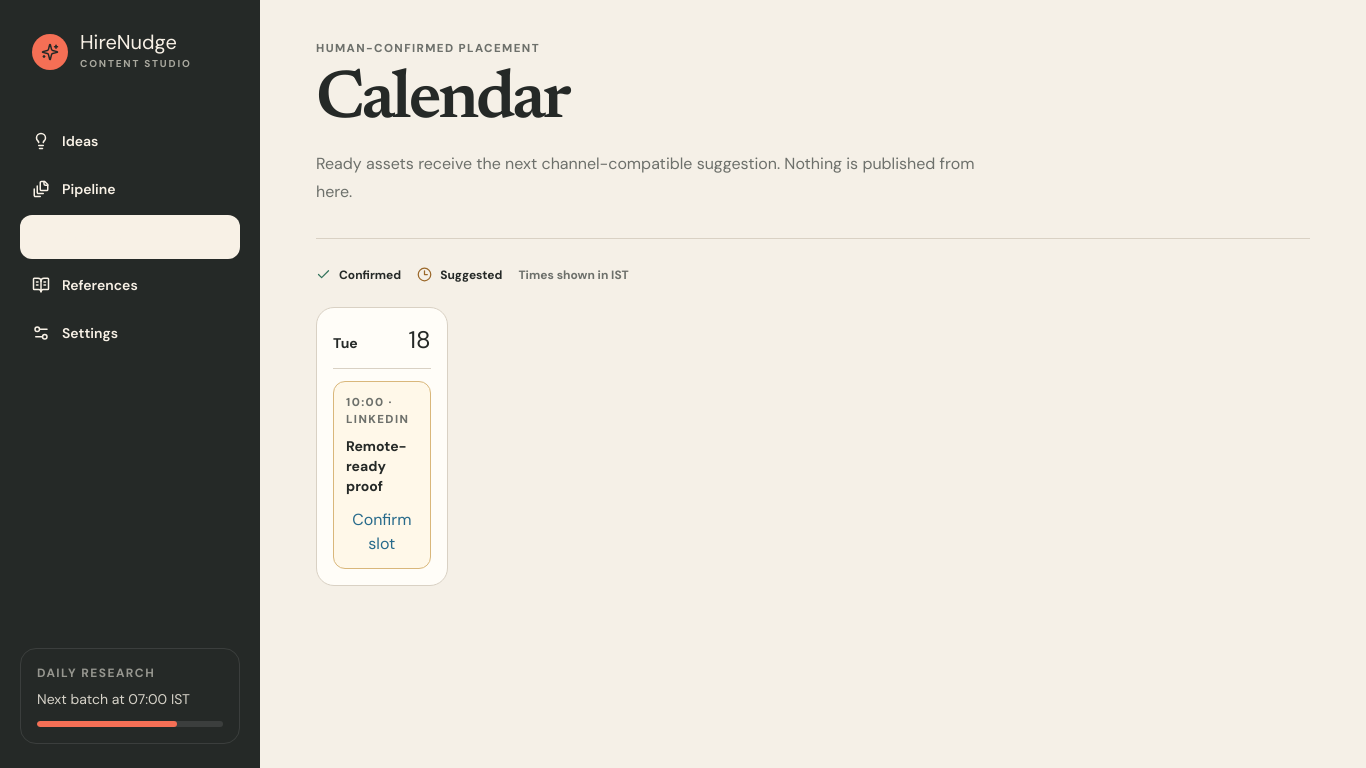
production UI clients › confirms a suggested calendar slot through the schedule API
Click the button "Confirm slot" at [382, 532], box [346,508,418,556]
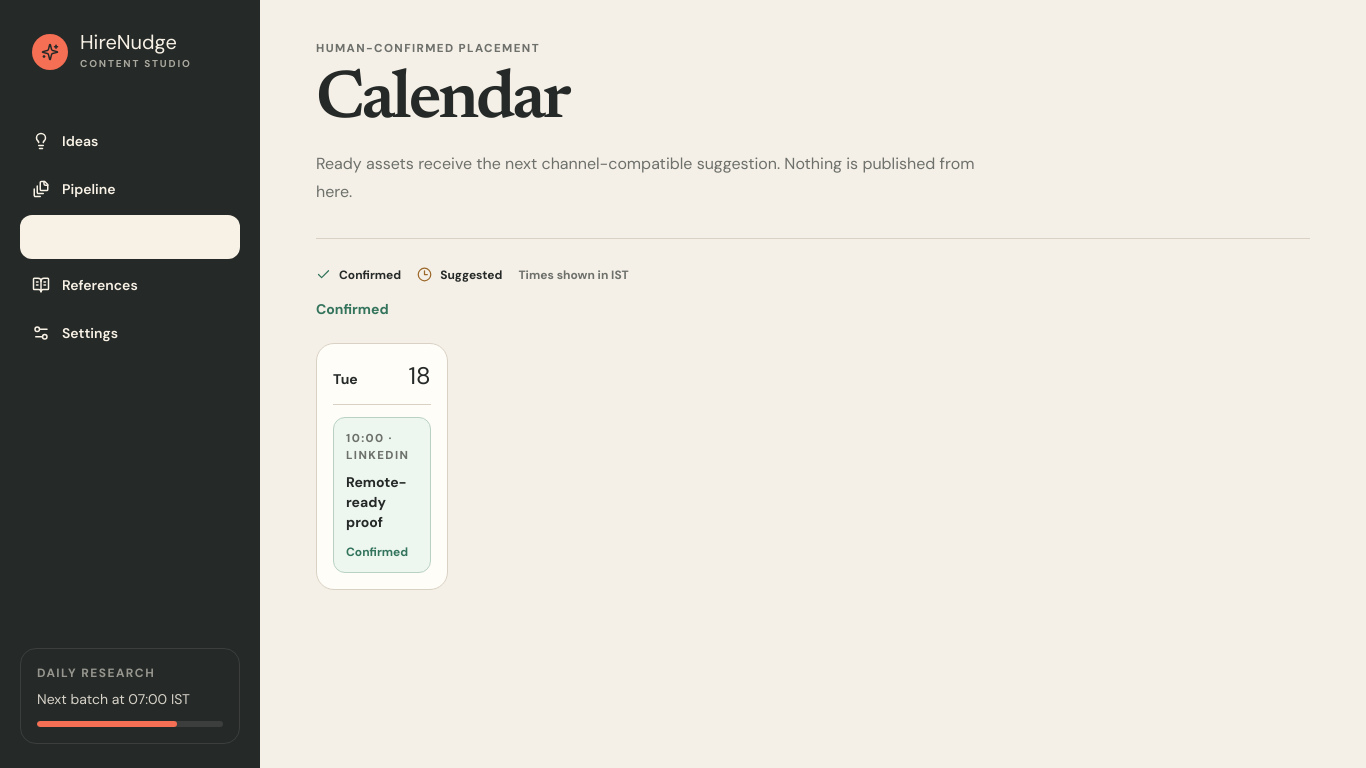
expect the button "Confirm slot" is gone: met
